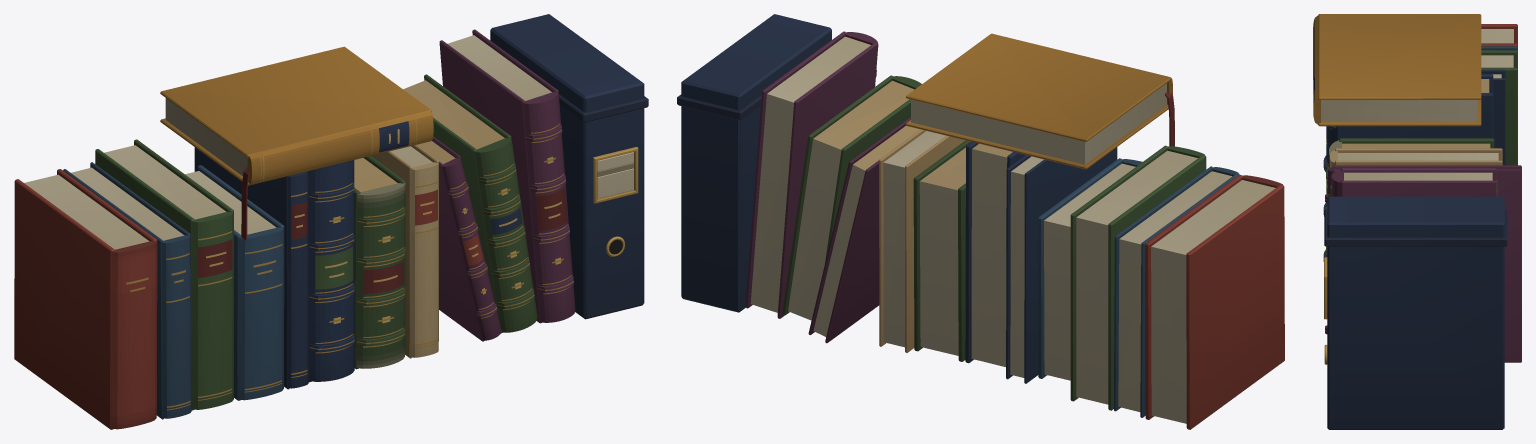
Rendered from book-row-leaning.glb.
3 views of the same model, side by side, from view 1: azimuth 30°, elevation 25°; view 2: azimuth 150°, elevation 25°; view 3: azimuth 270°, elevation 25° (orthographic). The views are drawn at different scales.
Parts seen in each view (by area): view 1: book_row_leaning; view 2: book_row_leaning; view 3: book_row_leaning.
Boxes of the visible parts, <box> form: book_row_leaning: <box>14,14,648,429</box>; book_row_leaning: <box>677,14,1284,429</box>; book_row_leaning: <box>1313,14,1521,429</box>.
Size of the model in its own units: 0.6113 by 0.2772 by 0.2236.
